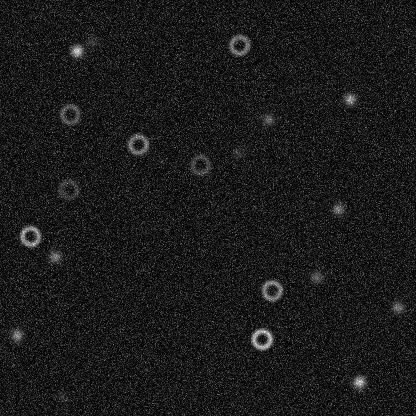Ring: (18, 224, 42, 248), (126, 132, 150, 156), (249, 327, 273, 351), (56, 177, 80, 201), (259, 278, 283, 302), (227, 33, 251, 57), (57, 102, 81, 126), (188, 152, 212, 176)
Spot: (8, 327, 24, 343), (389, 299, 405, 315), (54, 388, 70, 404), (341, 91, 357, 107), (229, 145, 245, 161), (260, 111, 276, 127), (68, 42, 84, 58), (308, 268, 324, 284), (351, 374, 367, 390), (83, 33, 99, 49), (330, 200, 346, 216), (47, 248, 63, 264)
